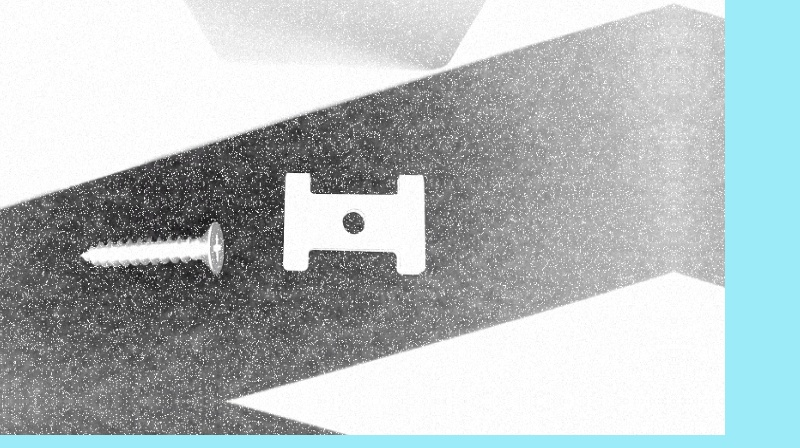O002: (277, 166, 427, 278)
S001: (75, 222, 226, 277)
